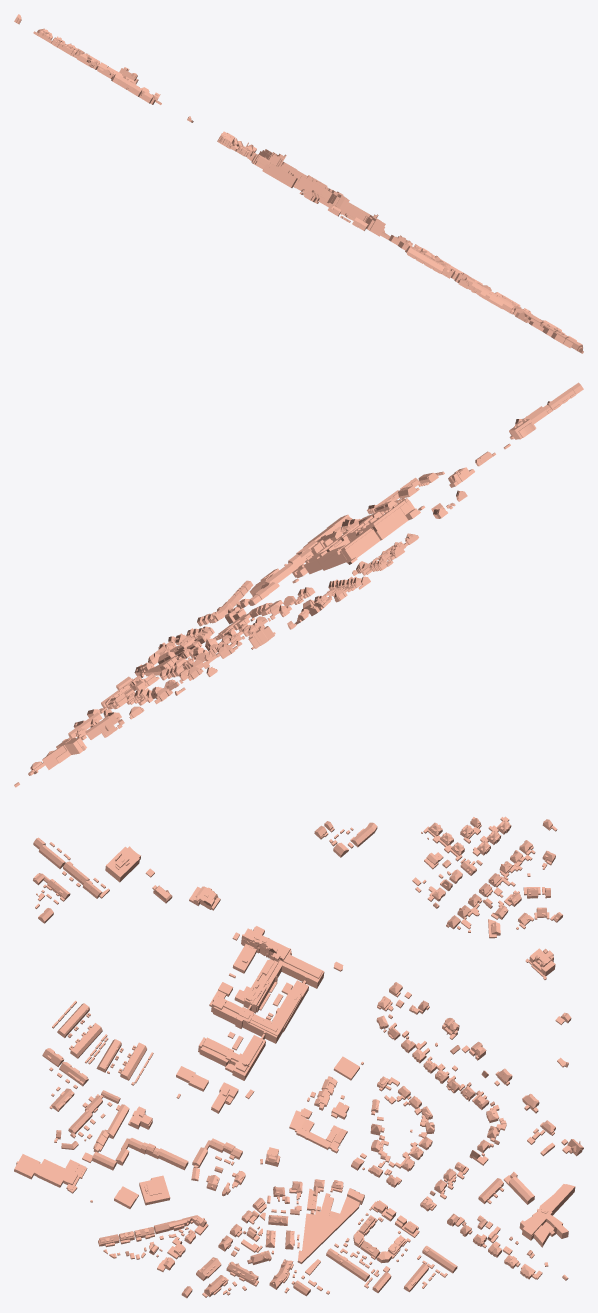
3 renders of one model, top to bottom at view 1: azimuth 30°, elevation 25°; view 2: azimuth 150°, elevation 25°; view 3: azimuth 270°, elevation 25°, orthographic.
Bounding box in the file's own units: 515 × 380 × 655.
